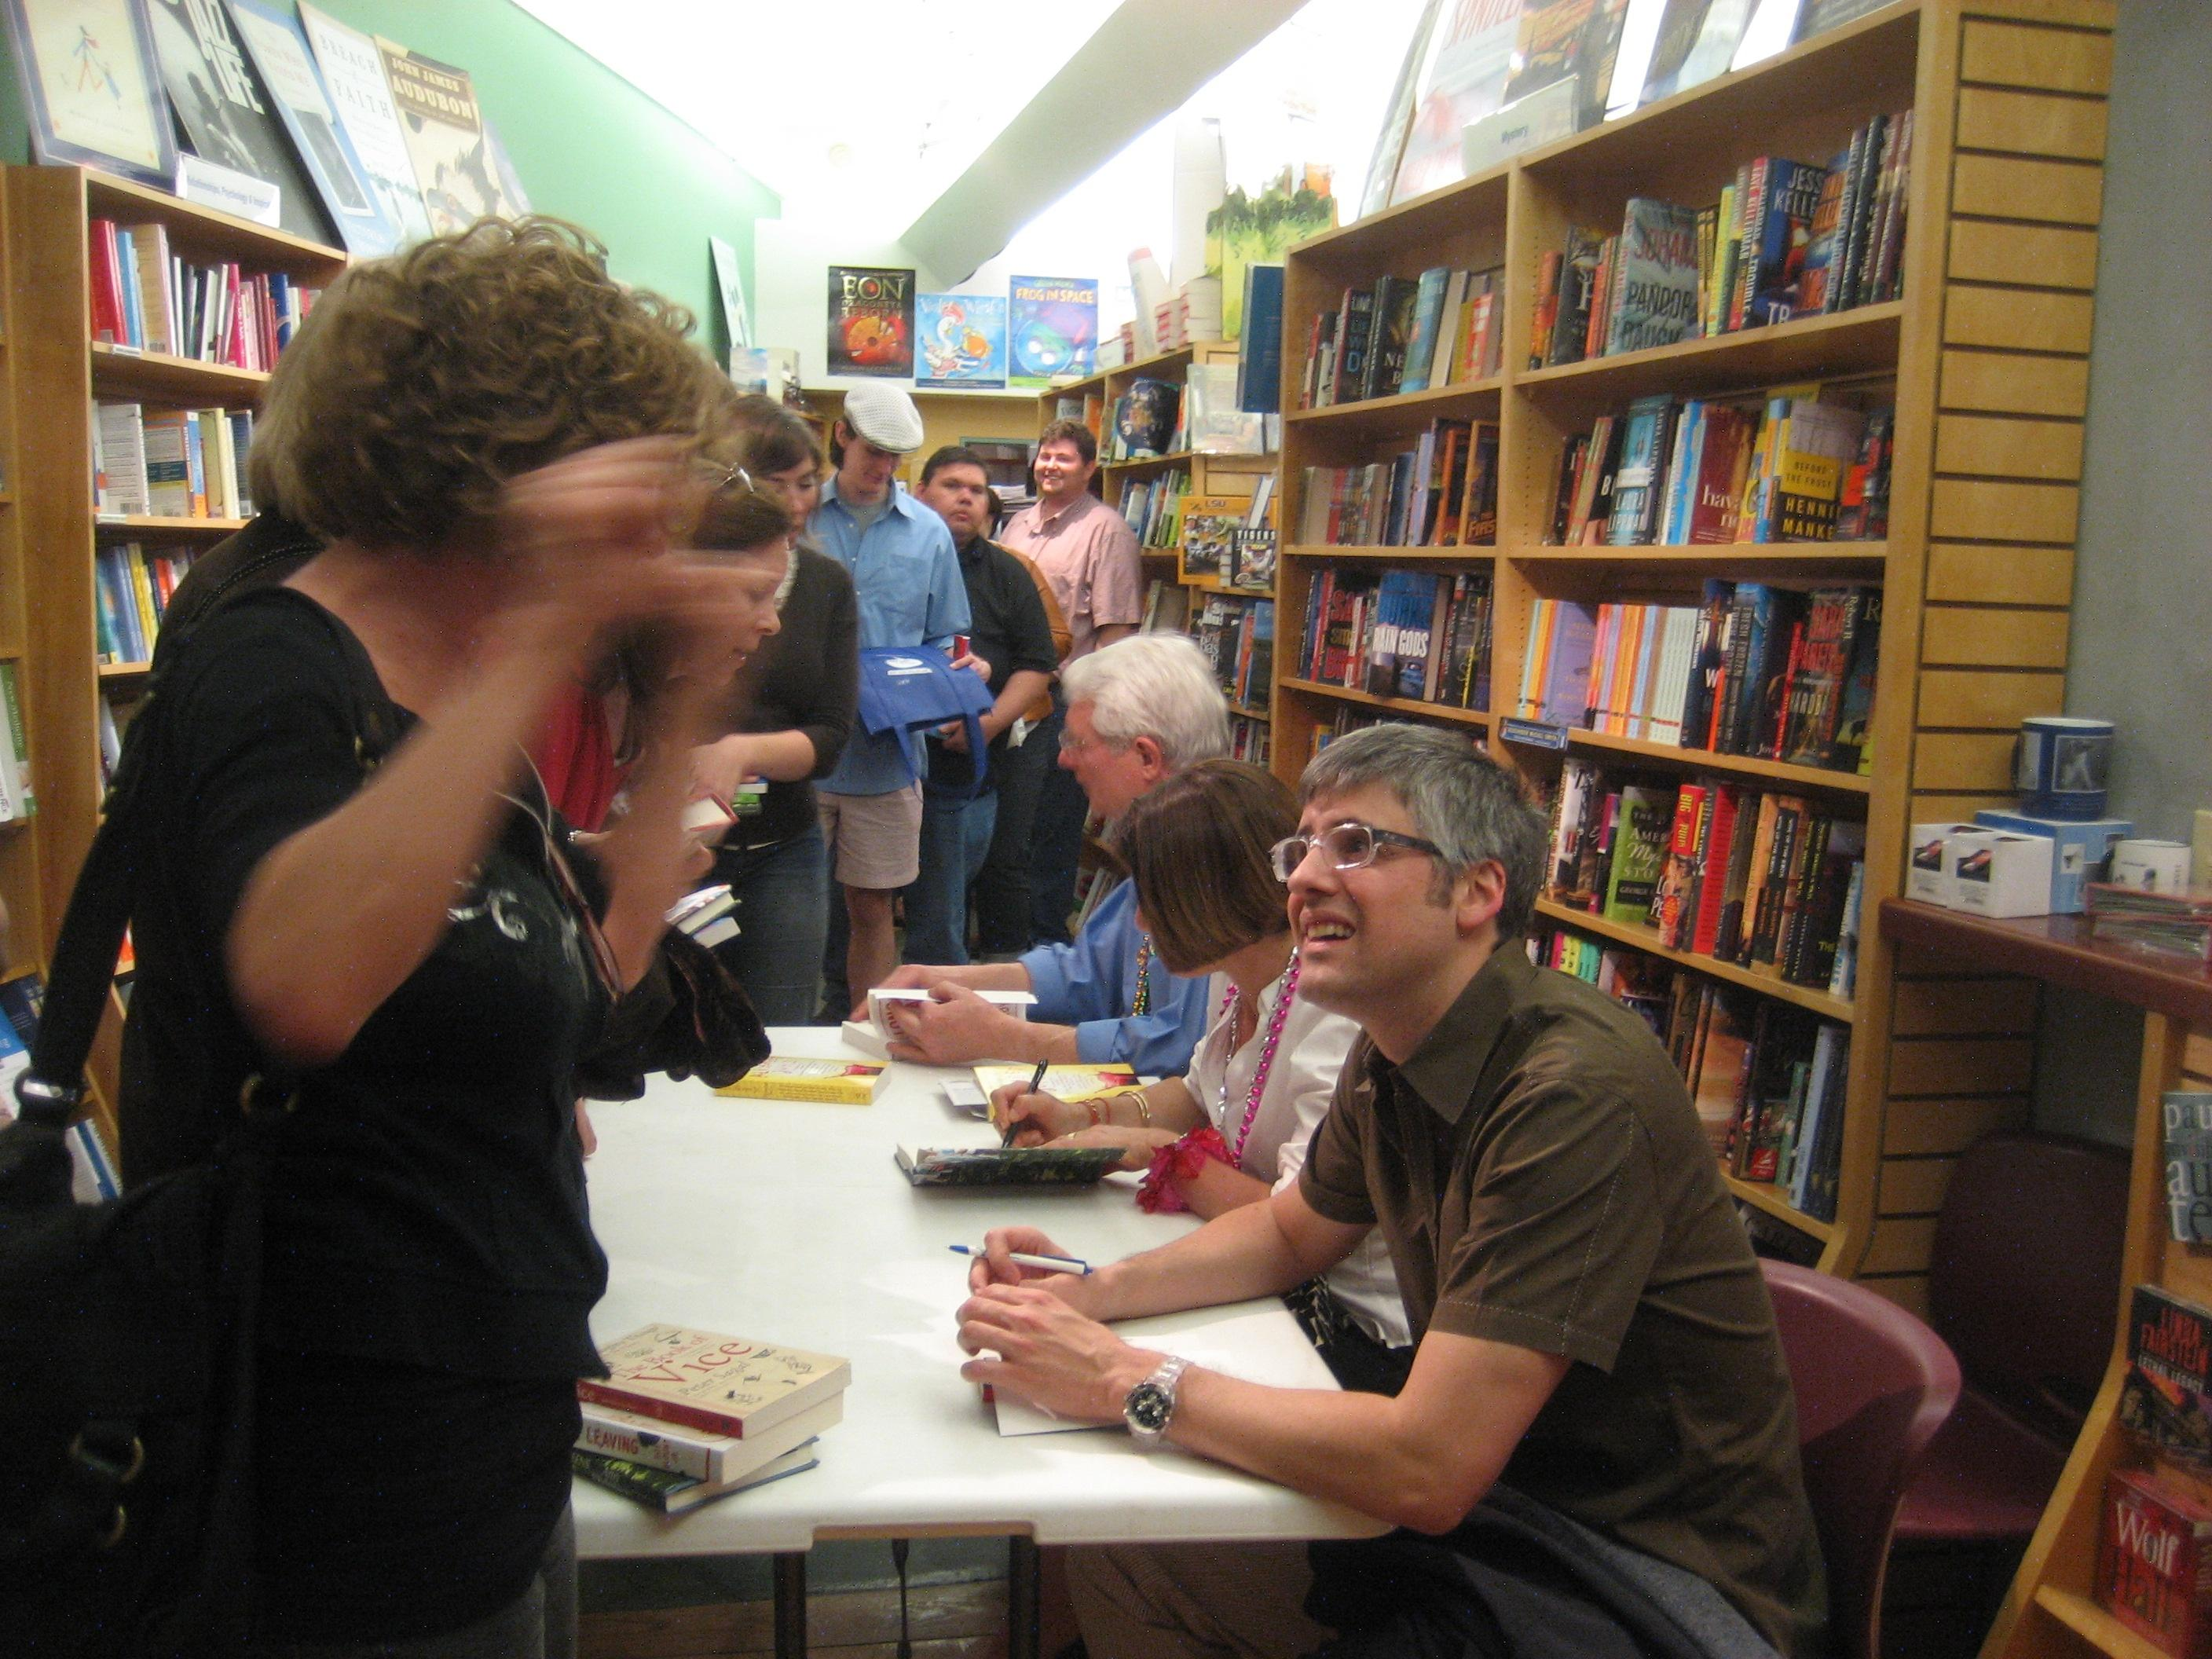Rak: (1491, 0, 1932, 1269), (82, 159, 347, 842), (1270, 155, 1514, 791)
